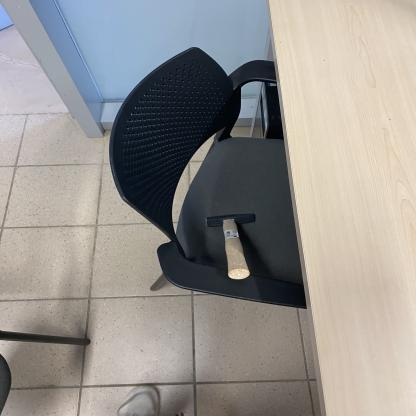Hammer: (204, 212, 258, 281)
